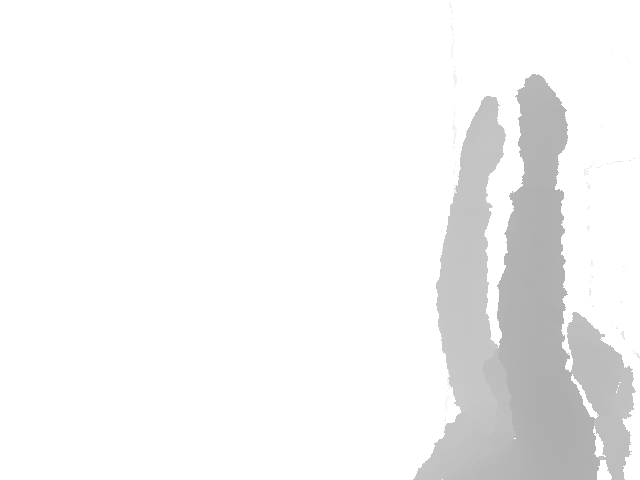hand: (513, 74, 569, 161), (459, 95, 507, 176)
head: (481, 308, 635, 419)
person: (411, 73, 637, 479)
